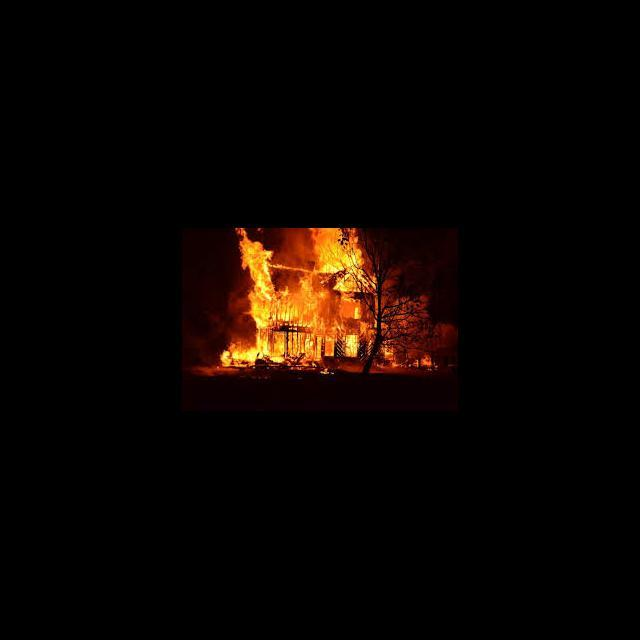Fire: (218, 229, 438, 371)
